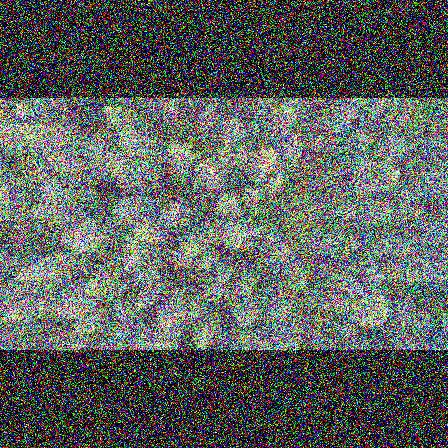Sick: (80, 131, 118, 164), (112, 244, 147, 272), (201, 276, 228, 303), (126, 266, 156, 289), (335, 318, 360, 342)
